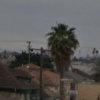Palm tree: (42, 18, 86, 100)
